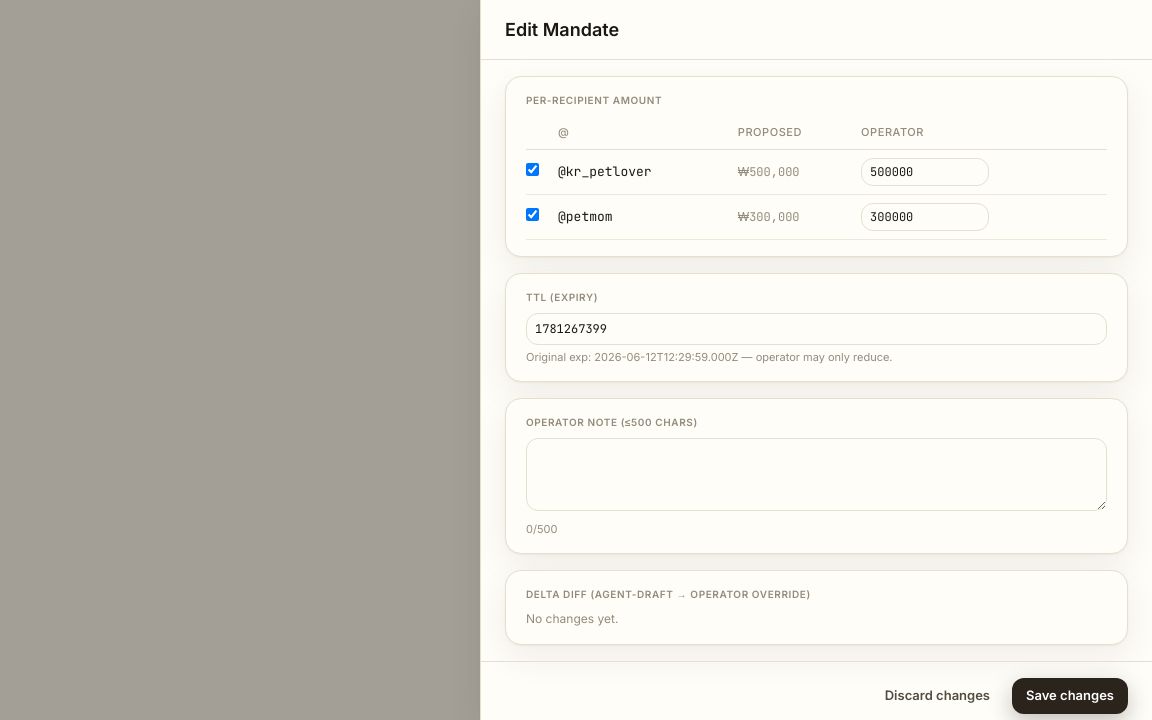
EditThenSignDrawer (D27/D33) › disables submit when every recipient is dropped
The width and height of the screenshot is (1152, 720).
Click the checkbox named "include kr_petlover" at (532, 169), box [526,163,539,176]
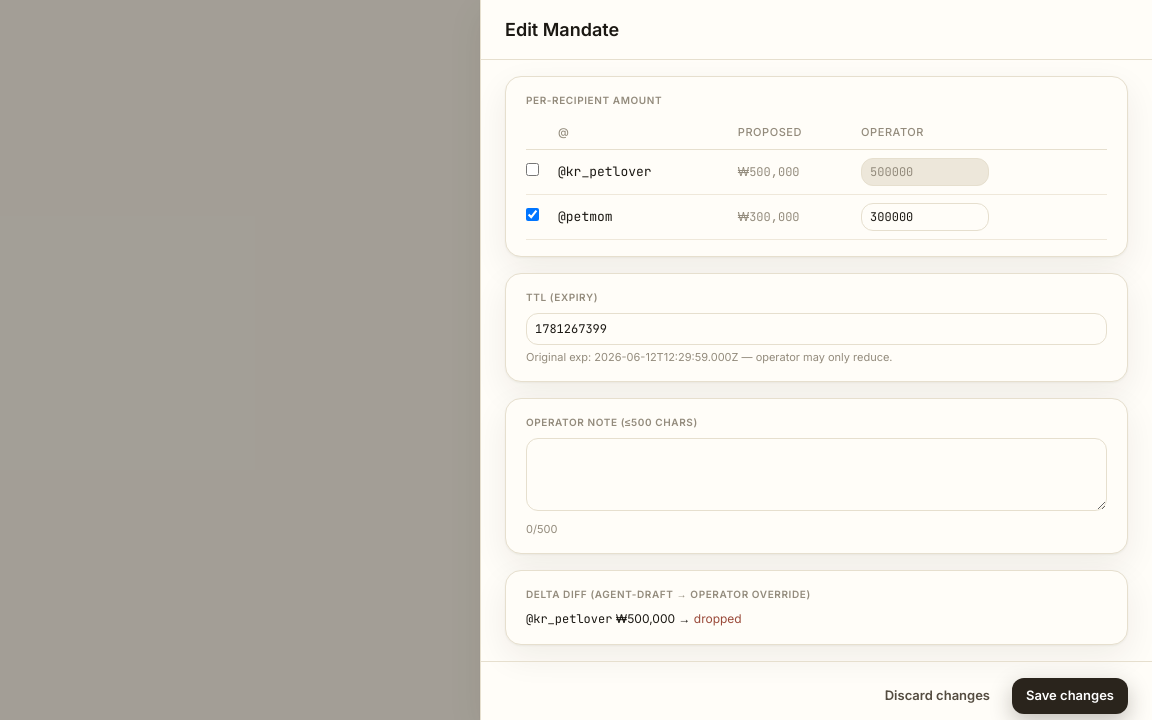
Click the checkbox named "include petmom" at (532, 214), box [526,208,539,221]
(page scrolled)
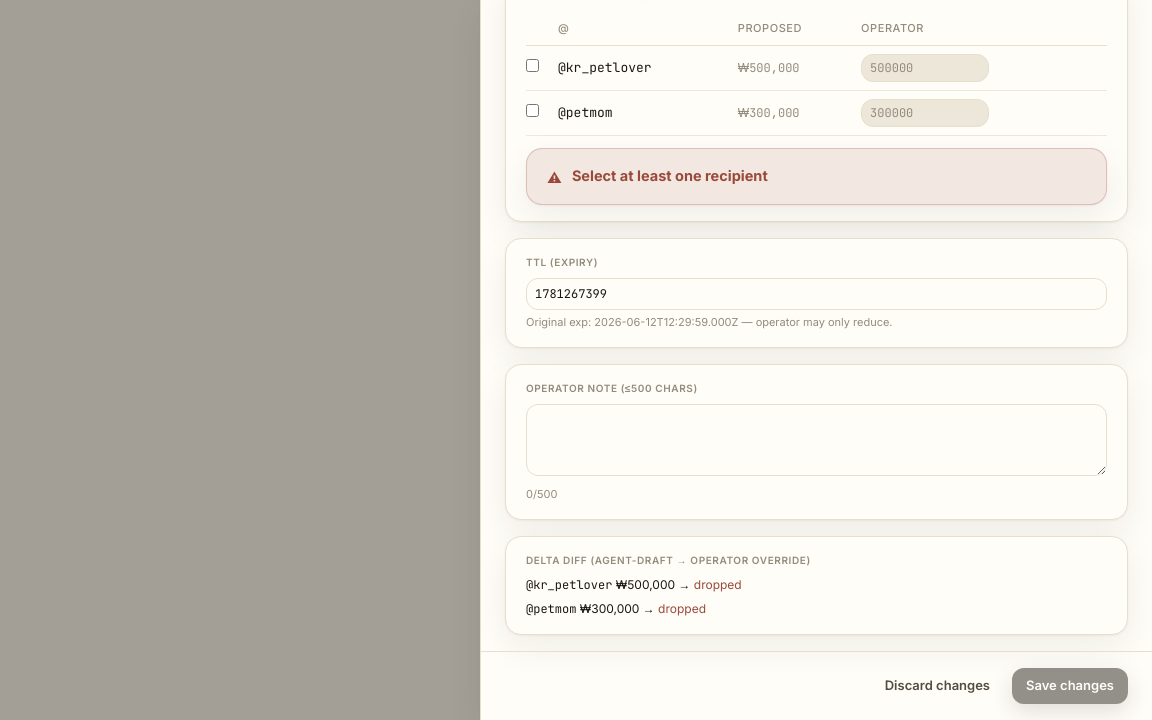
Result: the button "Save changes" is disabled at [1012,668,1128,704]
